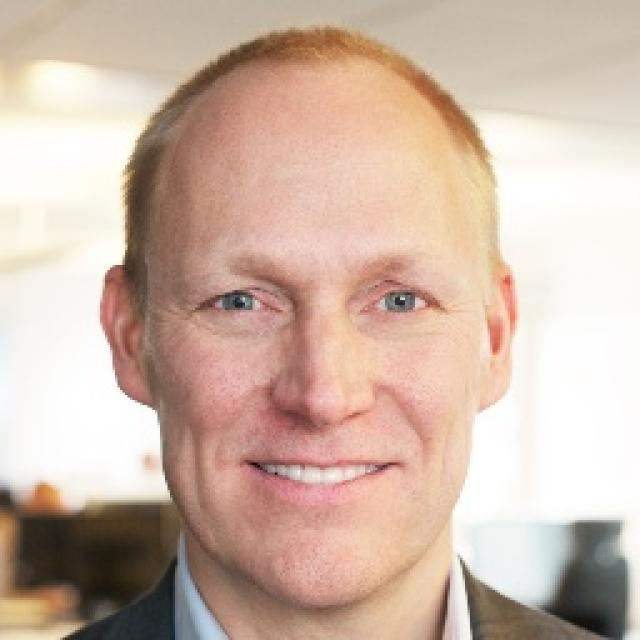earlobe: (115, 362, 157, 408), (475, 358, 510, 412)
eye: (362, 288, 440, 318), (208, 287, 280, 319)
nose: (274, 409, 374, 449)
wholeear: (102, 264, 158, 410), (475, 264, 516, 413)
